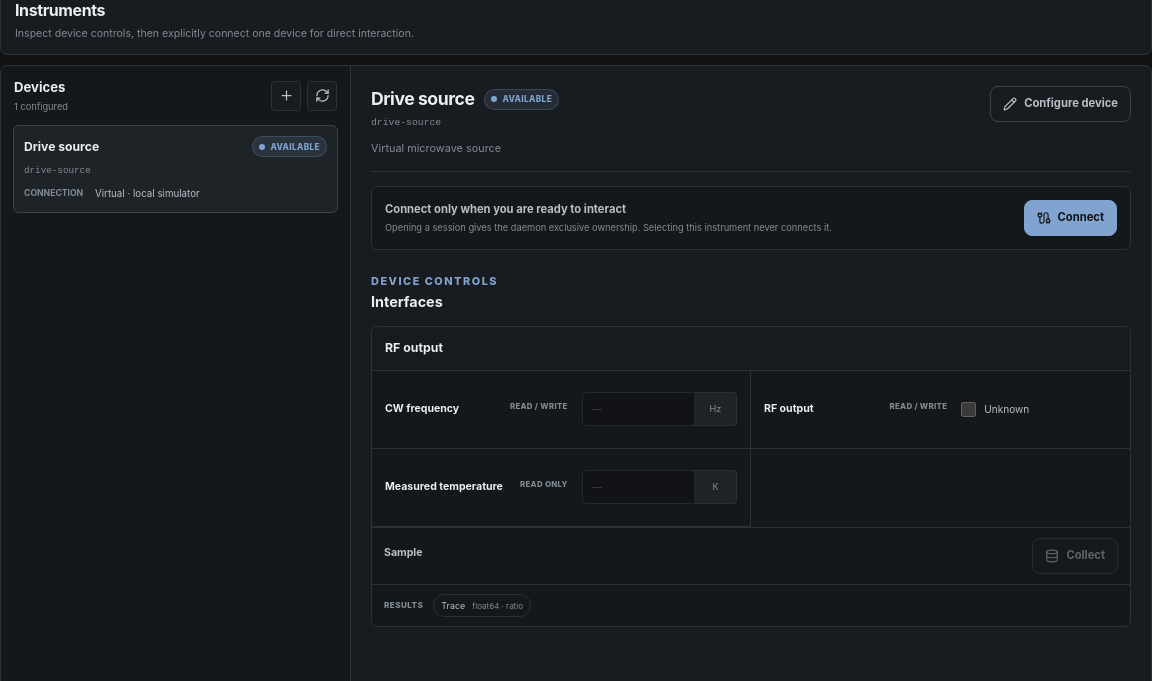
Test: instrument workspace › stages typed properties locally and sends one apply command
The width and height of the screenshot is (1152, 681).
Check: the text "Drive source" is shown, box left=24, top=138, right=99, bottom=156
Click the button "Connect" at (1070, 218), box left=1024, top=200, right=1117, bottom=236
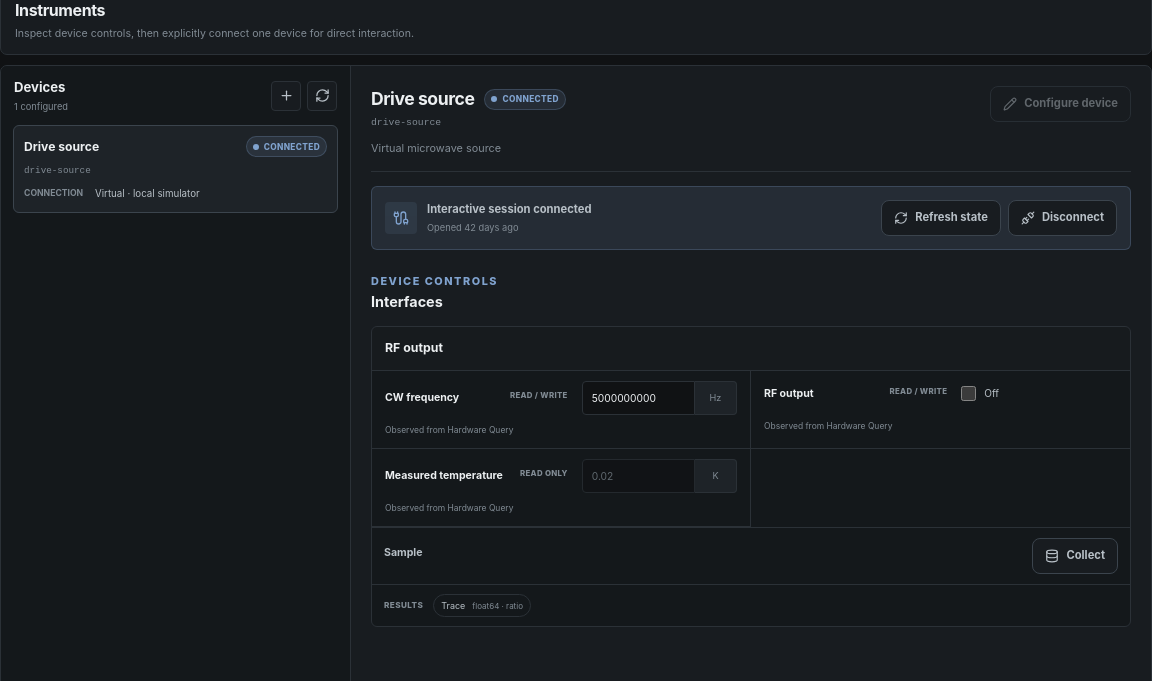
Check: the number field labelled "Measured temperature" is disabled, box left=582, top=459, right=695, bottom=493
Check: the text "Interactive session connected" is shown, box left=427, top=201, right=592, bottom=218
Replace the text in the number field labelled "CW frequency Read / write Hz Observed from Hardware Query" with "6000000000" at (638, 398), box left=582, top=381, right=695, bottom=415
(page scrolled)
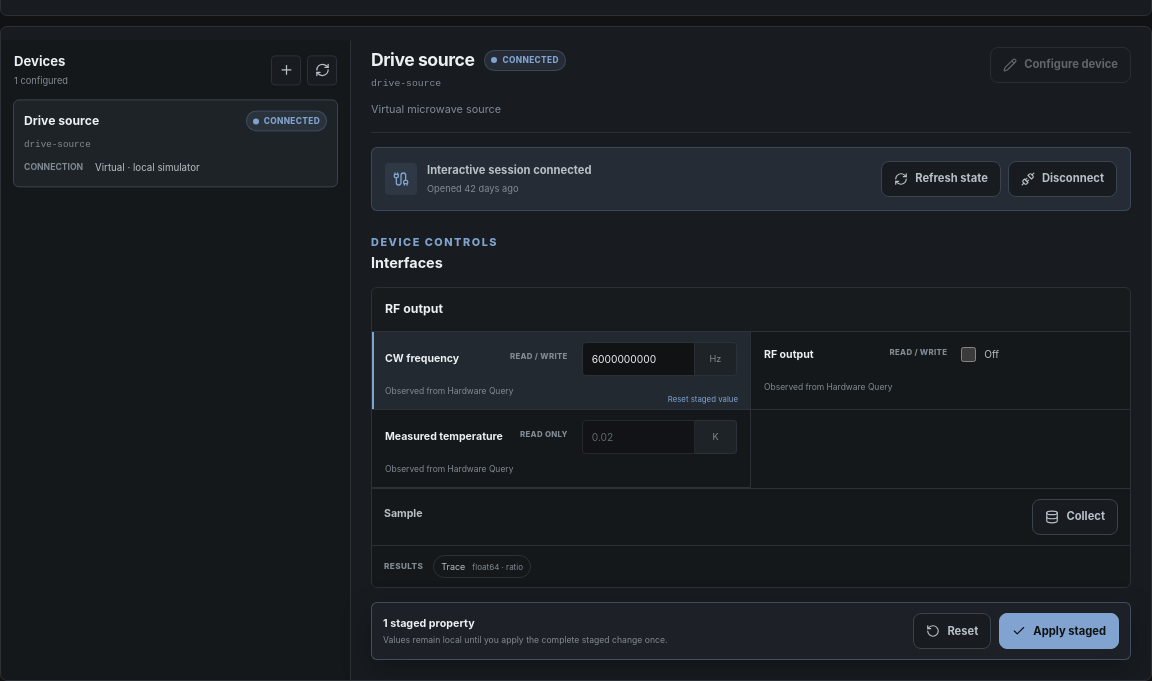
Check: the text "1 staged property" is shown, box left=383, top=617, right=475, bottom=630
Click the button "Apply staged" at (1059, 631), box left=999, top=613, right=1119, bottom=649
(page scrolled)
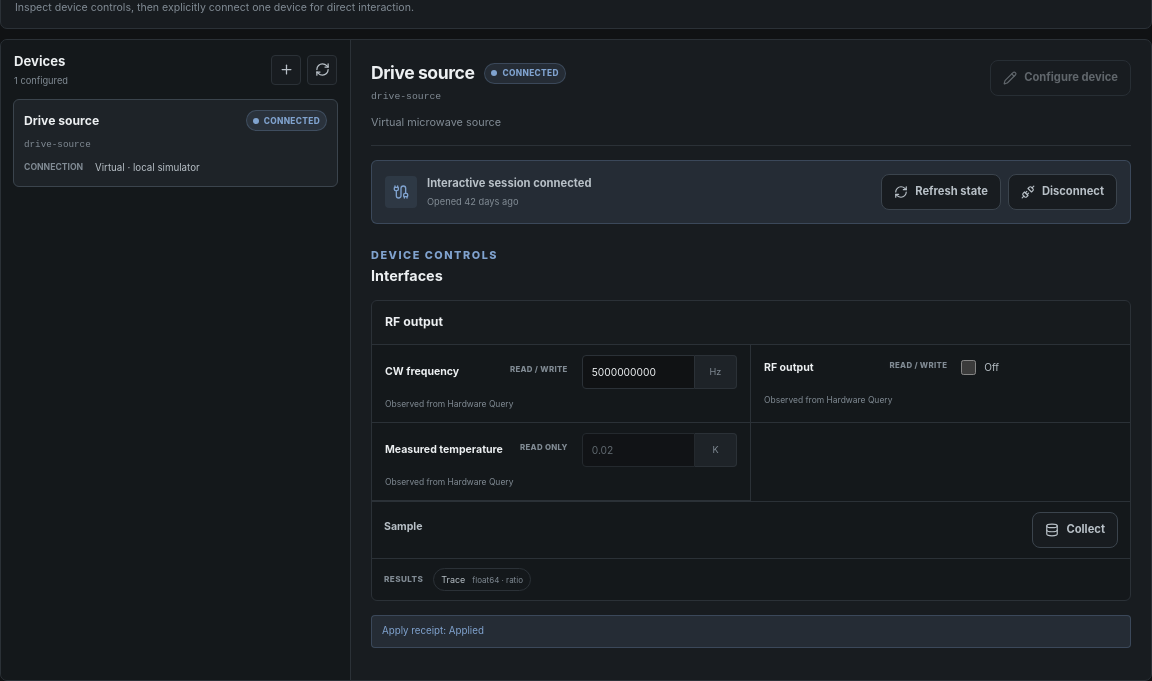
Check: the text "Apply receipt: Applied" is shown, box left=371, top=615, right=1131, bottom=648
